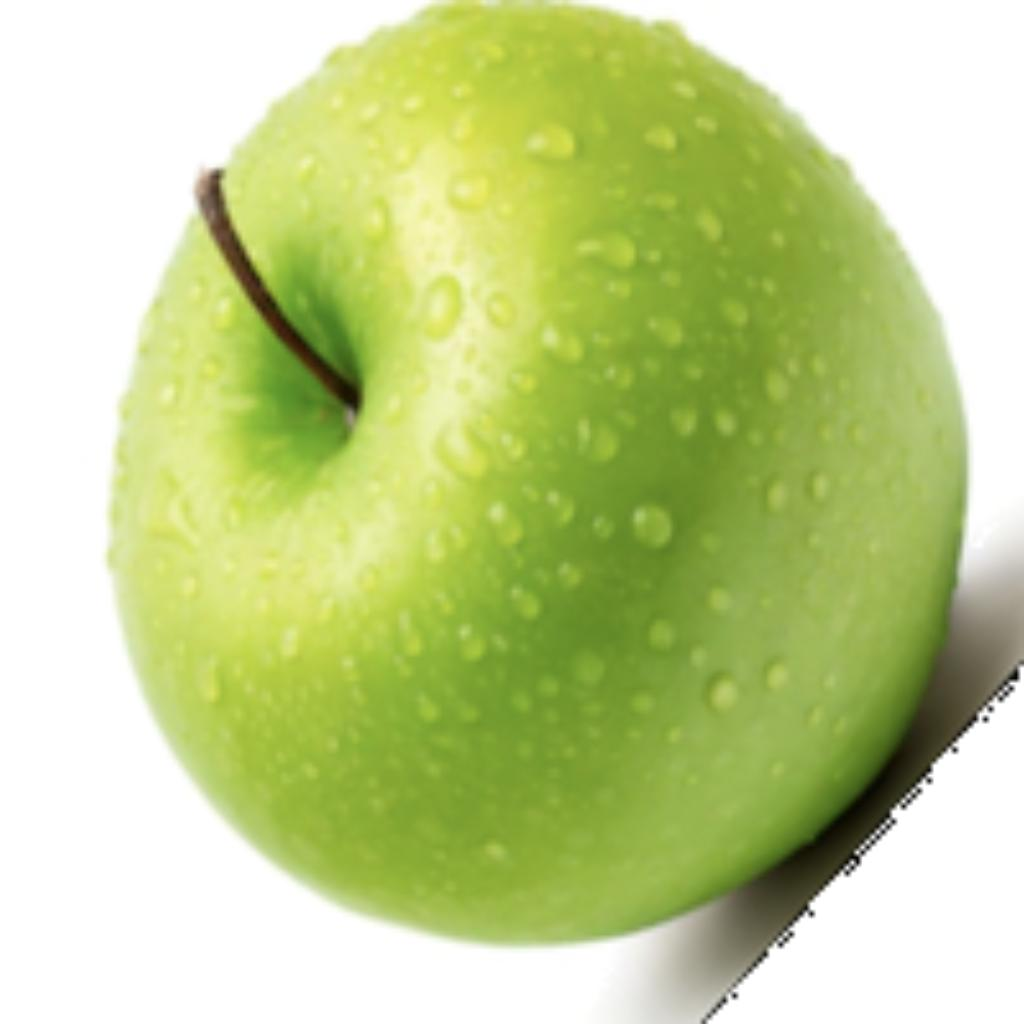apple: (97, 0, 1019, 1019)
